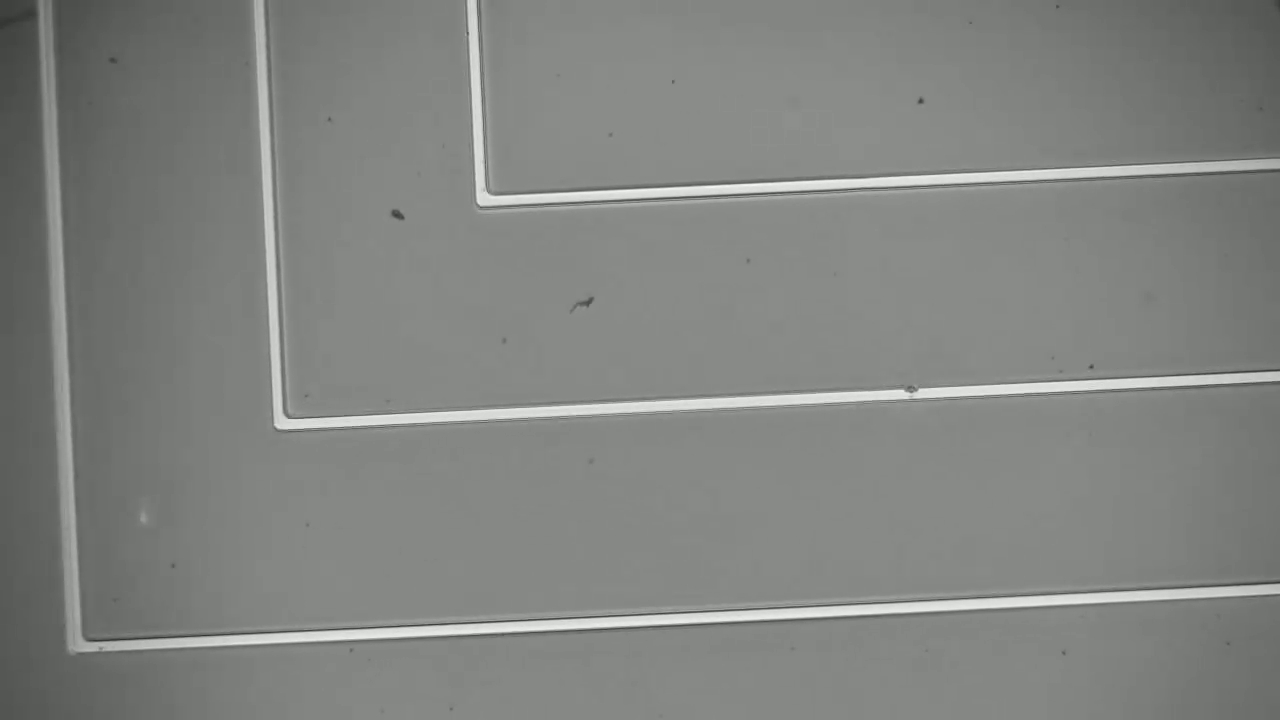stains_enbedded: (901, 382, 928, 408)
